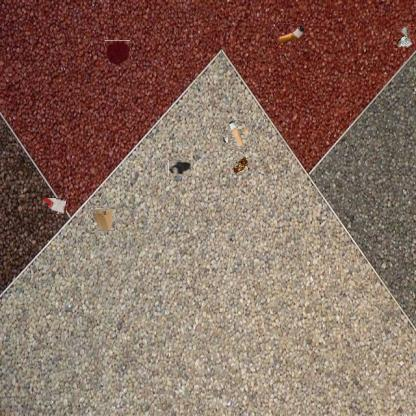dirty: (276, 23, 306, 45), (91, 205, 116, 231), (224, 123, 249, 147), (392, 25, 414, 48), (42, 198, 66, 214), (231, 155, 249, 173)
liquid: (104, 41, 131, 67), (168, 160, 191, 176)
